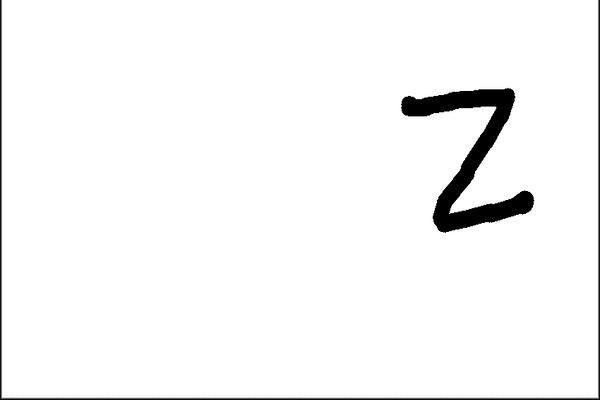Z: (382, 67, 552, 241)
